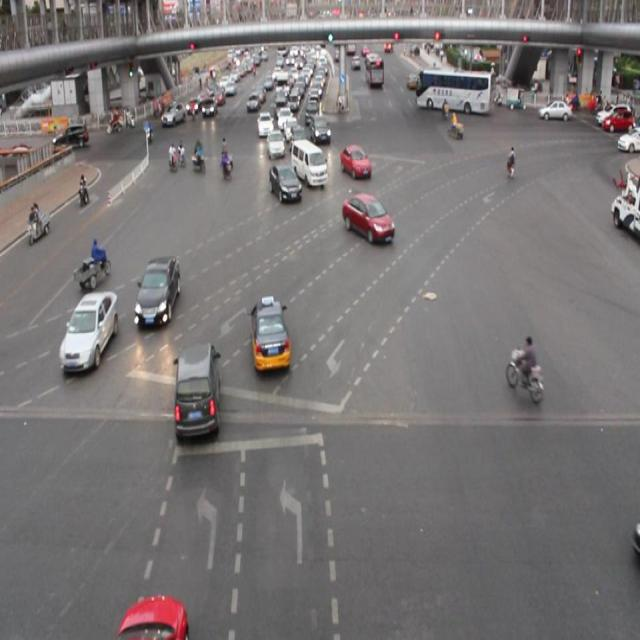car: (60, 290, 118, 370), (132, 256, 181, 326), (116, 595, 190, 640), (248, 298, 290, 373), (341, 192, 394, 244), (269, 162, 301, 204), (340, 143, 371, 179), (310, 114, 330, 142), (266, 132, 284, 160), (289, 125, 306, 152), (256, 111, 273, 137), (283, 117, 298, 140)
truck: (173, 344, 219, 438), (292, 140, 328, 187)
